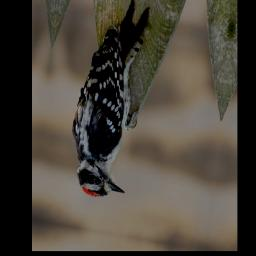Woodpecker: (62, 0, 151, 203)
